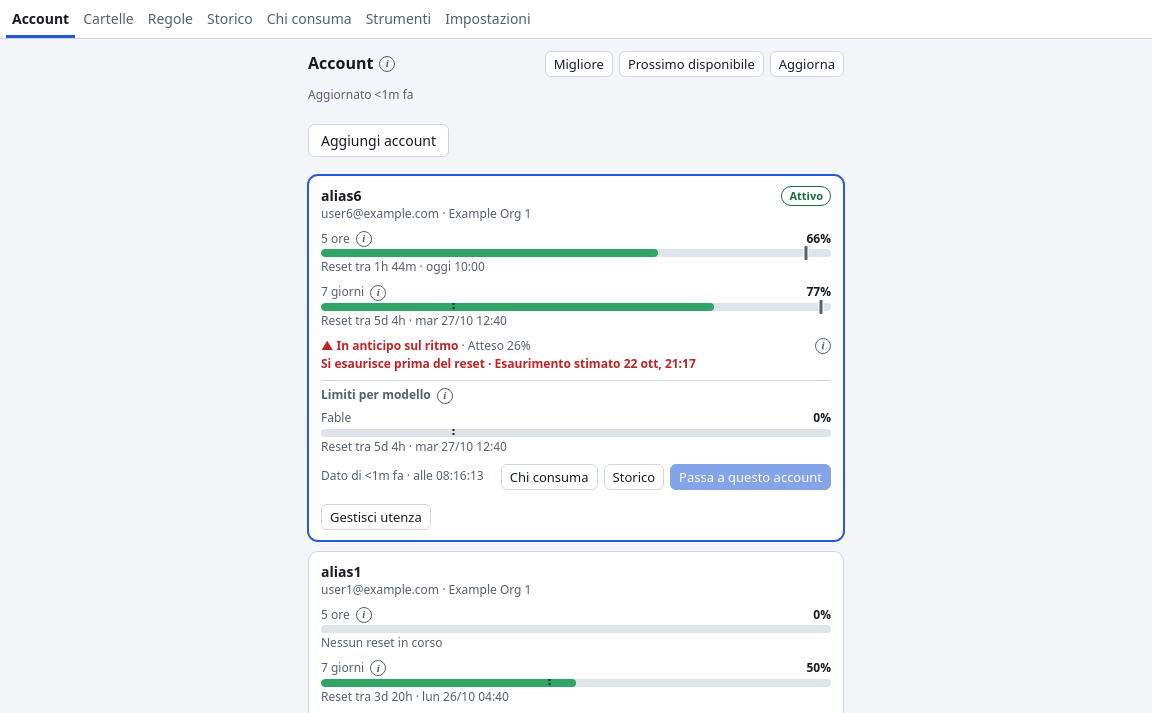
Scenario: SwapDeckApp: Storico dalla scheda di un account › storico: errore dal backend
The width and height of the screenshot is (1152, 713).
Click the button with aria-label "Apri lo storico di alias6".
click(634, 477)  # box [604, 464, 664, 490]
(page scrolled)
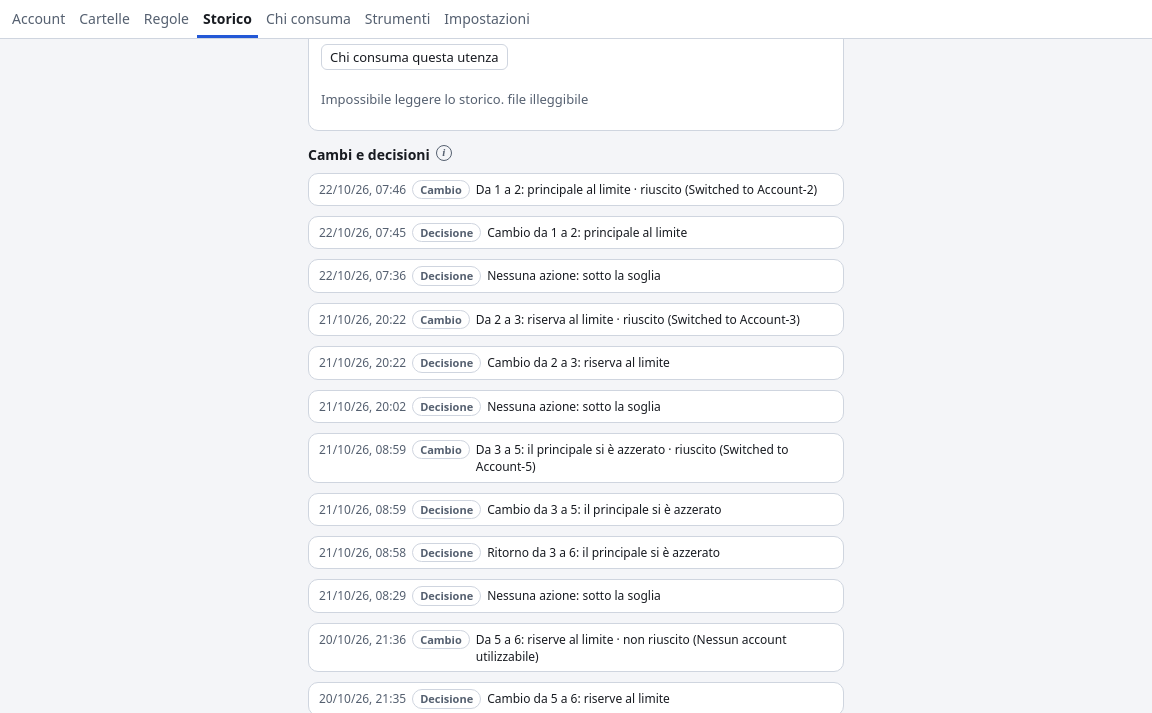
Expected: the text "Impossibile leggere lo storico. file illeggibile" is shown, [321, 90, 588, 108]
